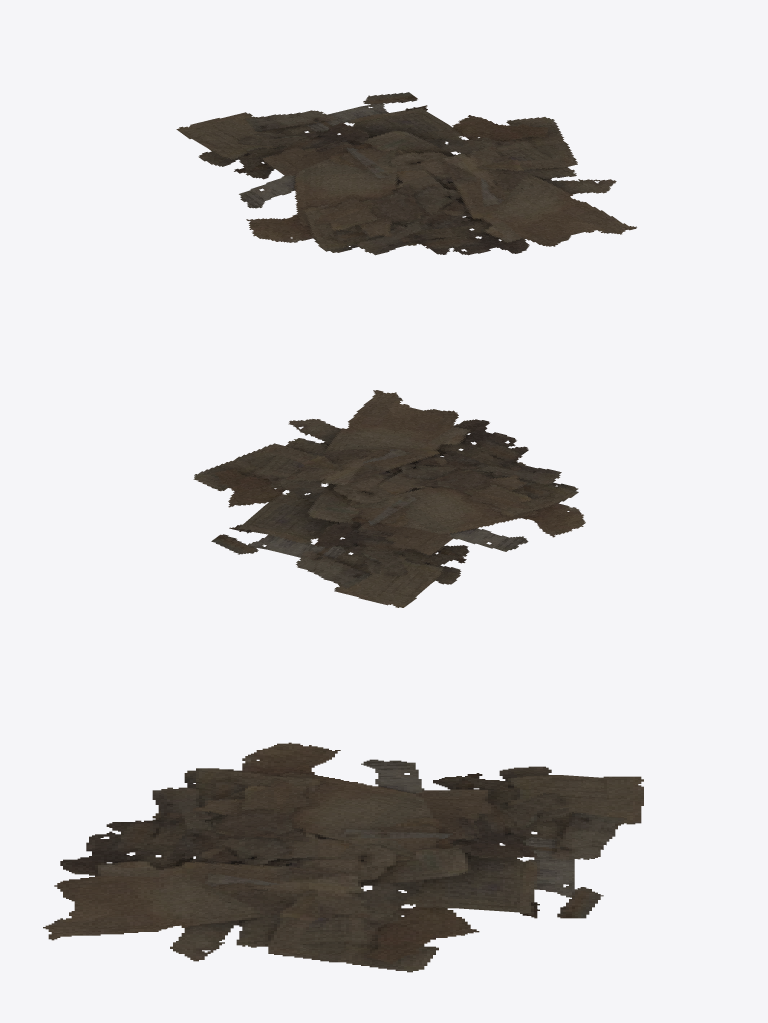
File: trash_1.glb
3 renders of one model, top to bottom at view 1: azimuth 30°, elevation 25°; view 2: azimuth 150°, elevation 25°; view 3: azimuth 270°, elevation 25°, orthographic. The views are drawn at different scales.
Parts seen in each view (by area): view 1: trash_1; view 2: trash_1; view 3: trash_1.
Boxes of the visible parts, bbox=[...] form: trash_1: bbox=[176, 92, 636, 255]; trash_1: bbox=[193, 390, 585, 607]; trash_1: bbox=[43, 742, 643, 972].
Bounding box in the file's own units: 1 × 0.0147 × 1.
Materials: 1 (1 with a texture image).
